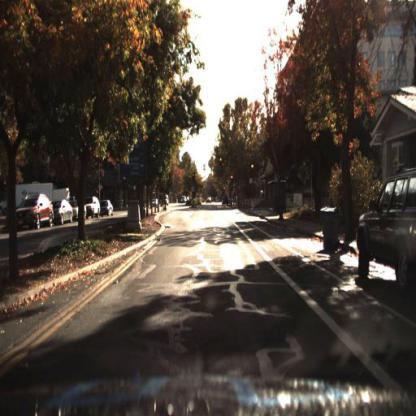car: (356, 167, 416, 298), (16, 191, 53, 233), (52, 199, 75, 225), (52, 199, 73, 225), (72, 202, 90, 223), (87, 197, 102, 219), (88, 198, 102, 220), (99, 200, 115, 219), (75, 200, 86, 221), (102, 199, 113, 215), (152, 197, 161, 210), (180, 194, 189, 206)
trafficLight: (218, 152, 225, 168)
trafficLight-Red: (251, 162, 256, 180), (230, 171, 235, 186)
trafficLight-RedLeft: (190, 172, 198, 188)
trafficLight-Yellow: (250, 160, 257, 172), (229, 174, 235, 182)
truck: (1, 183, 55, 215), (12, 178, 54, 202)
